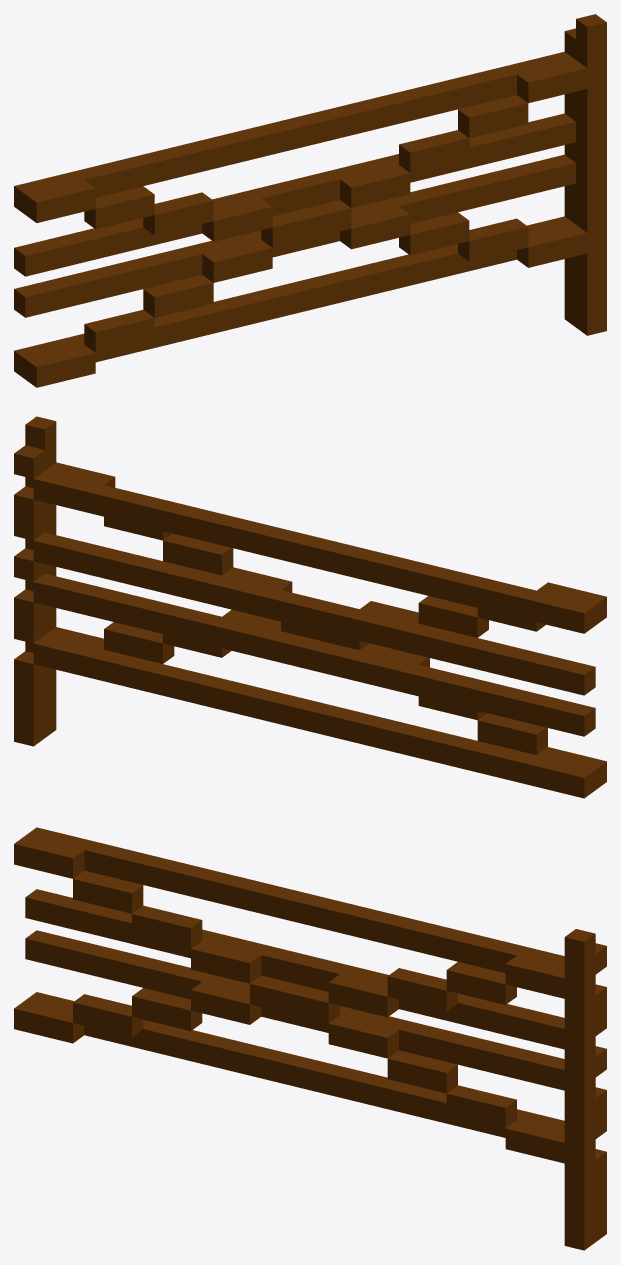
The model's file is 3.1 Zaun.obj.
3 renders of one model, top to bottom at view 1: azimuth 30°, elevation 25°; view 2: azimuth 150°, elevation 25°; view 3: azimuth 330°, elevation 25°, orthographic.
Size of the model in its own units: 2.9 by 1.5 by 0.2.
Materials: 1 (1 with a texture image).
